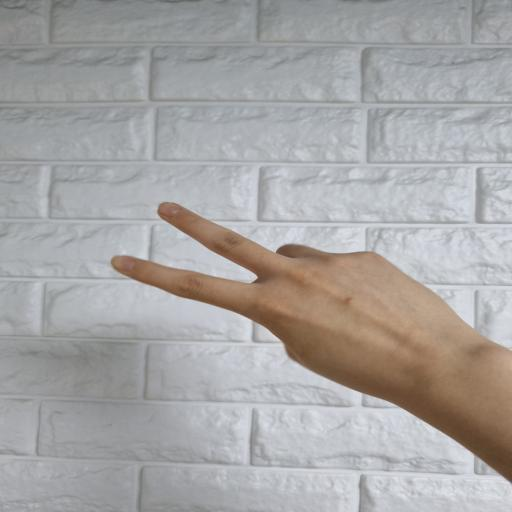Scissors: (110, 200, 485, 396)
